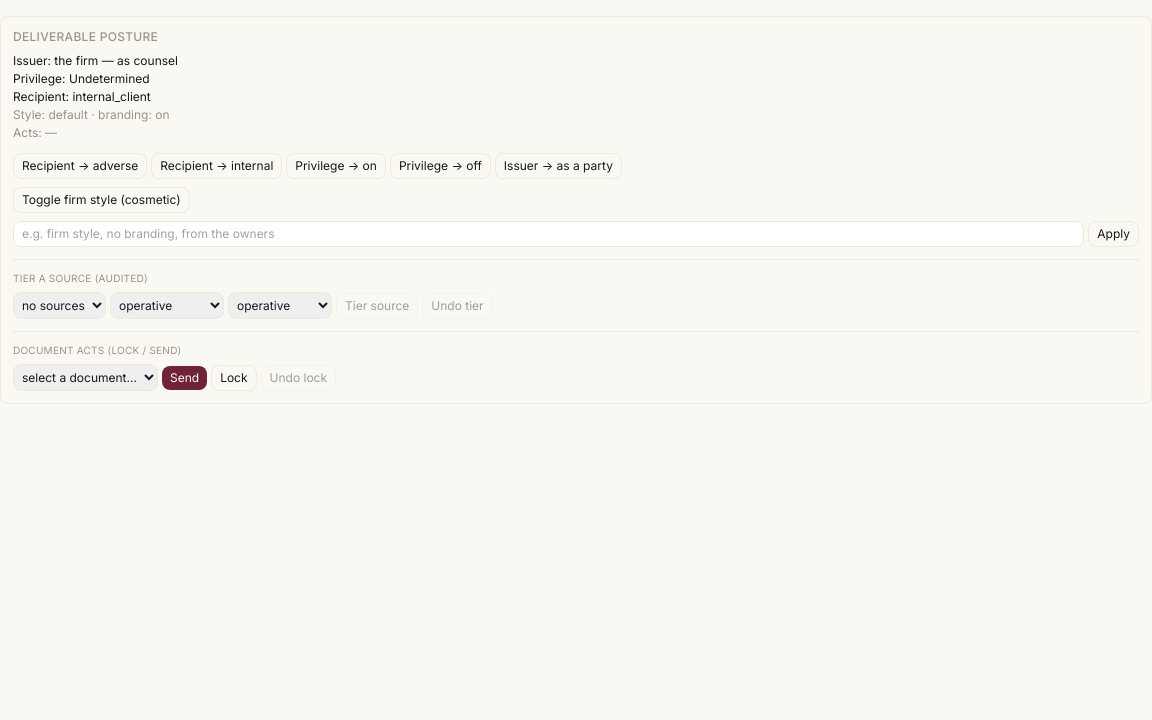
Test: BA-3 send (internal disposition, no egress) › a HARD-blocked send (adverse recipient + undetermined privilege at egress) writes NOTHING
The image size is (1152, 720).
Select "Draft POA" in the dropdown with test id "doc-select": (86, 378) left=13, top=364, right=158, bottom=391
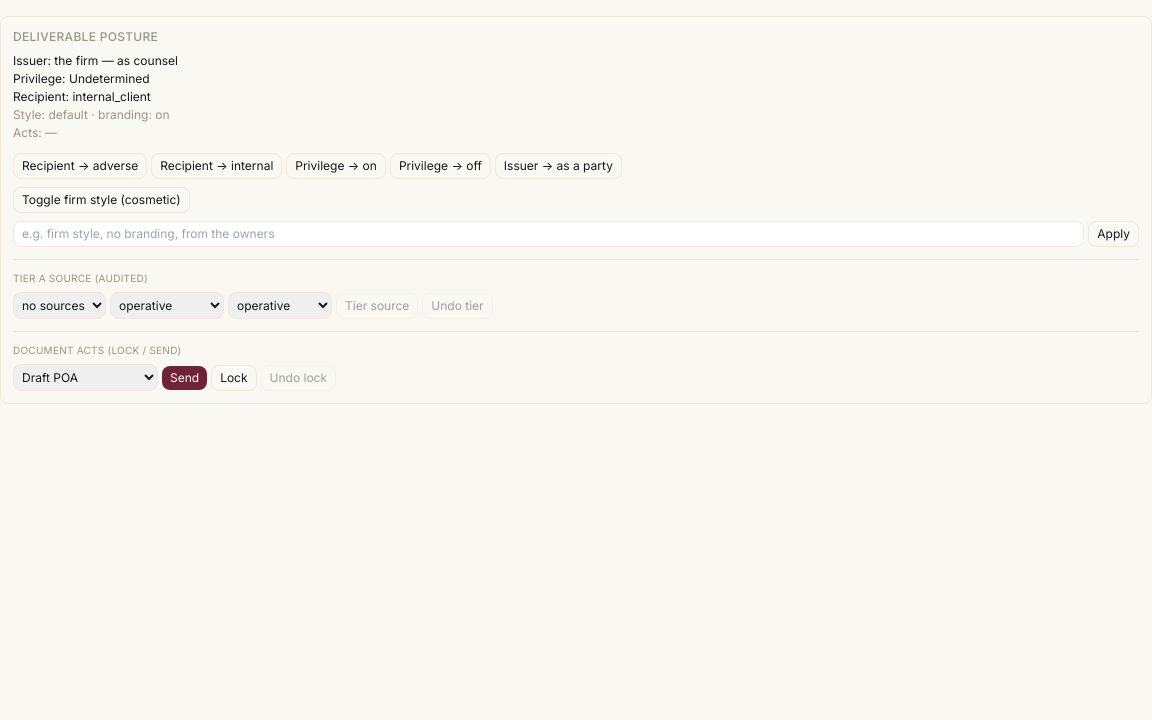
Click the button with test id "ctl-recipient-adverse": (80, 166) left=13, top=153, right=147, bottom=179
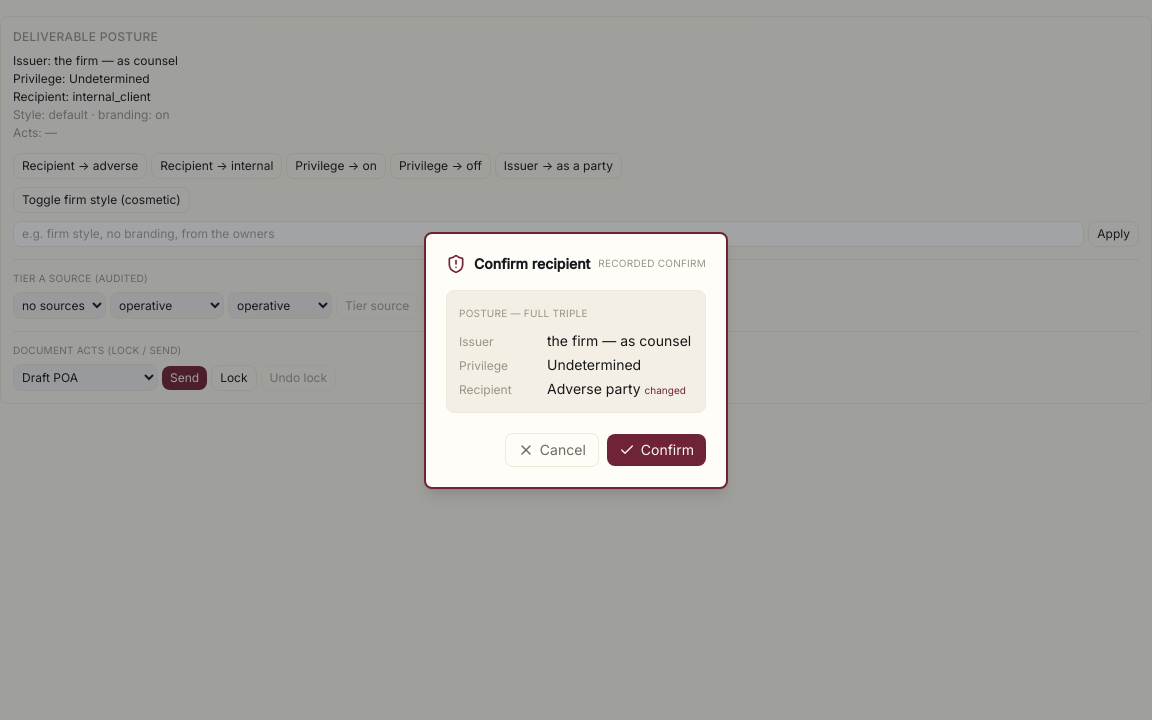
Click the button with test id "confirm-accept": (656, 450) left=607, top=434, right=706, bottom=466
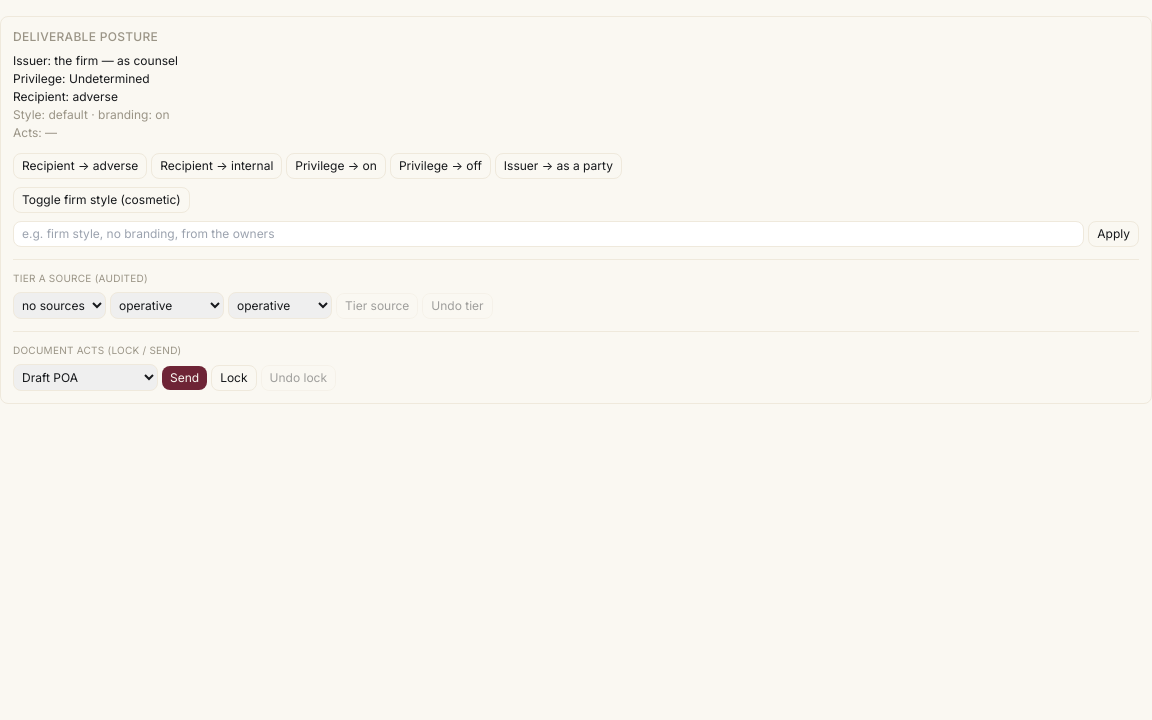
Result: the text with test id "dt-recipient" shows "adverse" at left=72, top=89, right=118, bottom=104
Click the button with test id "act-send": (185, 378) left=162, top=366, right=207, bottom=390
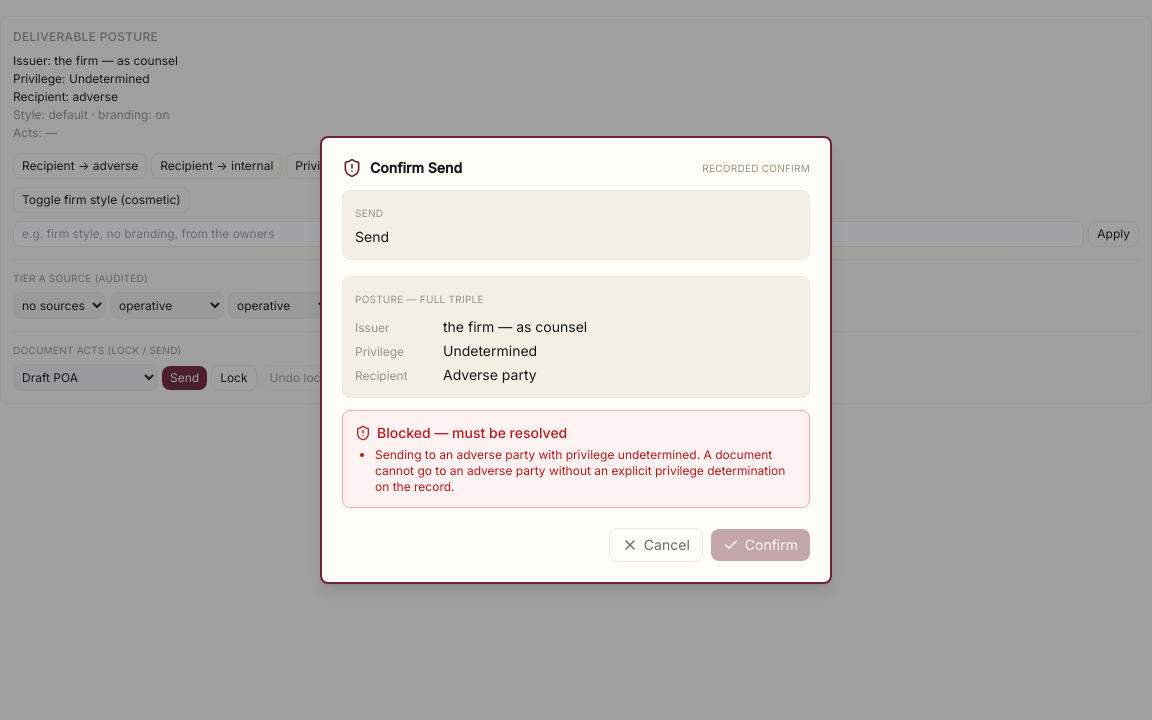
Result: the element with test id "confirm-hard" is shown at left=342, top=410, right=810, bottom=508
Result: the button with test id "confirm-accept" is disabled at left=711, top=529, right=810, bottom=561
